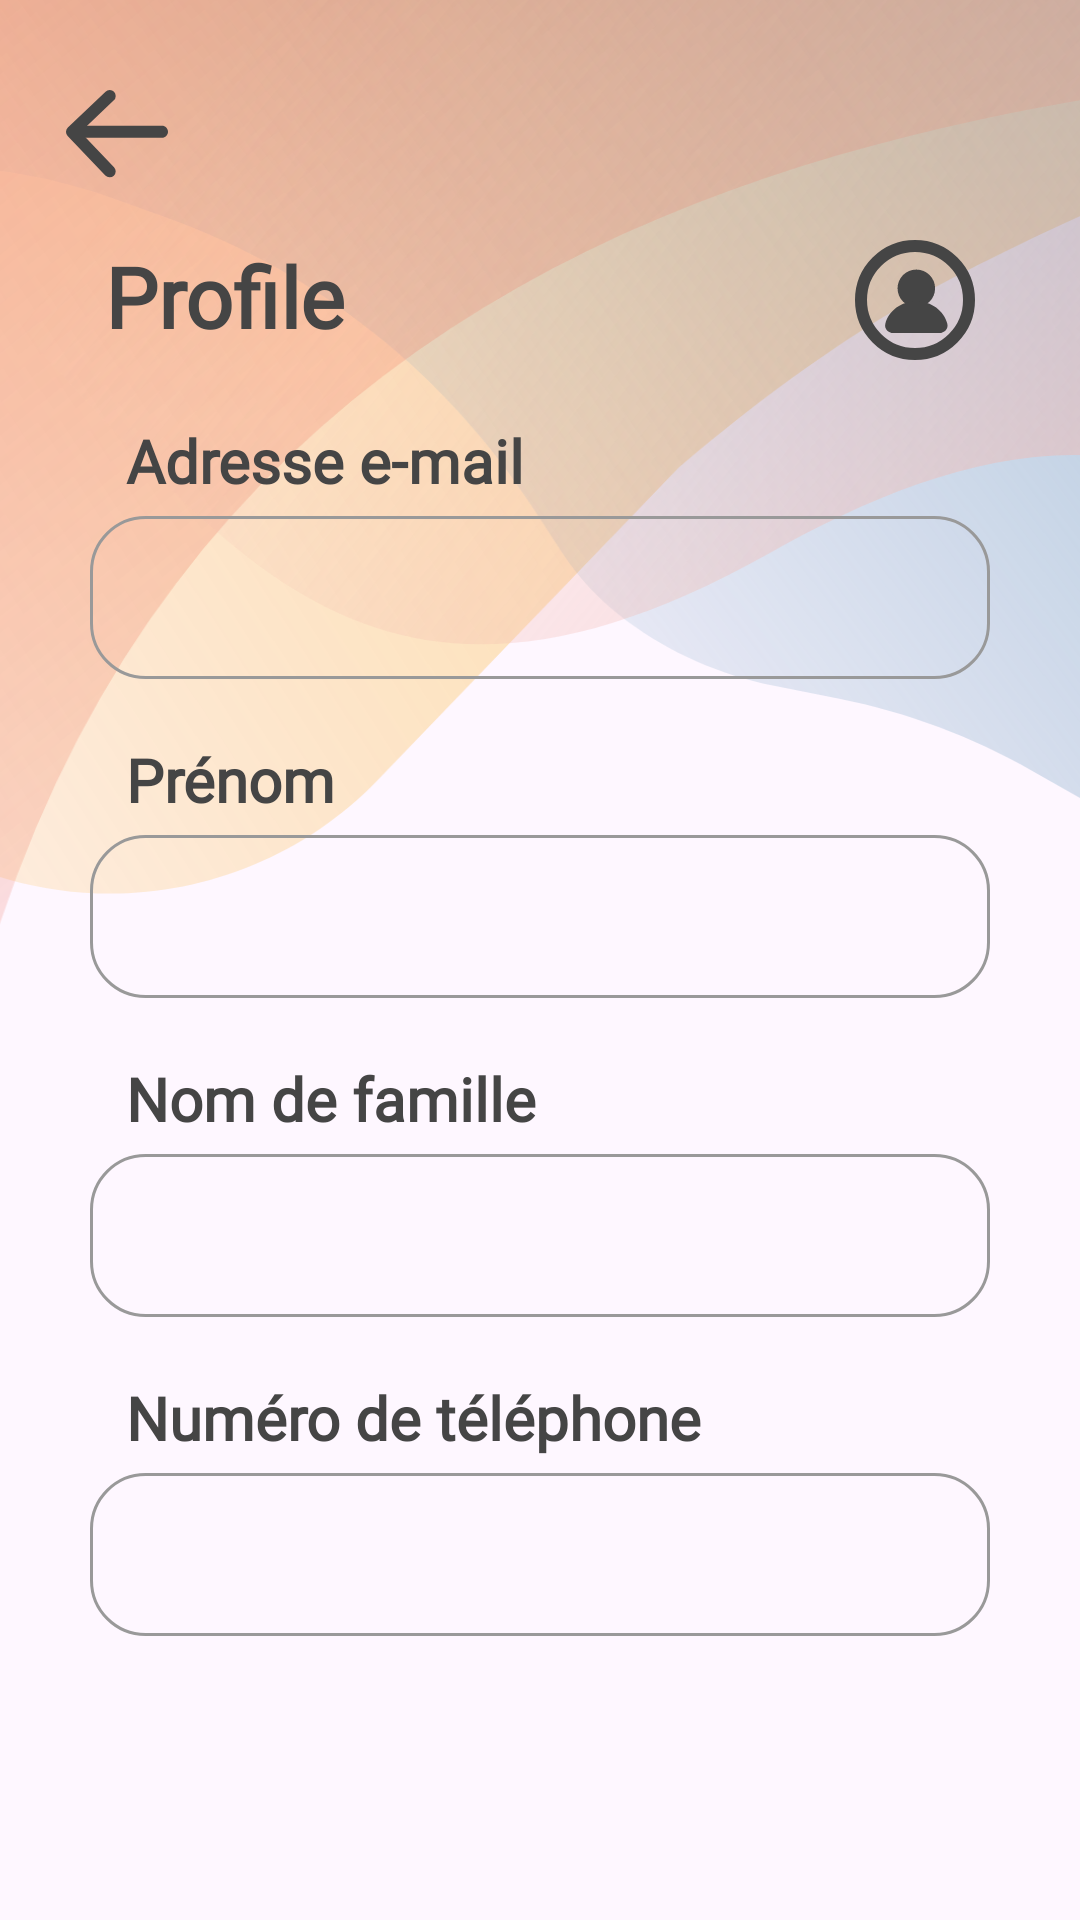

Where to tap for icons on this 1080*1920 app screen, as (x=x, y=y):
back: (x=117, y=134)
